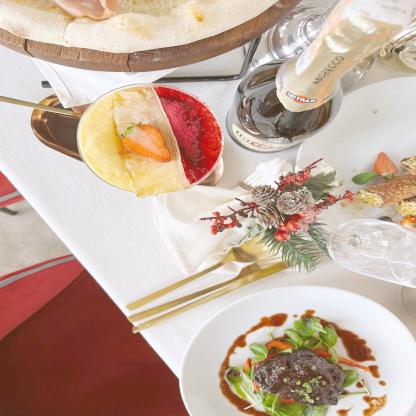Carne: (278, 359, 338, 405)
